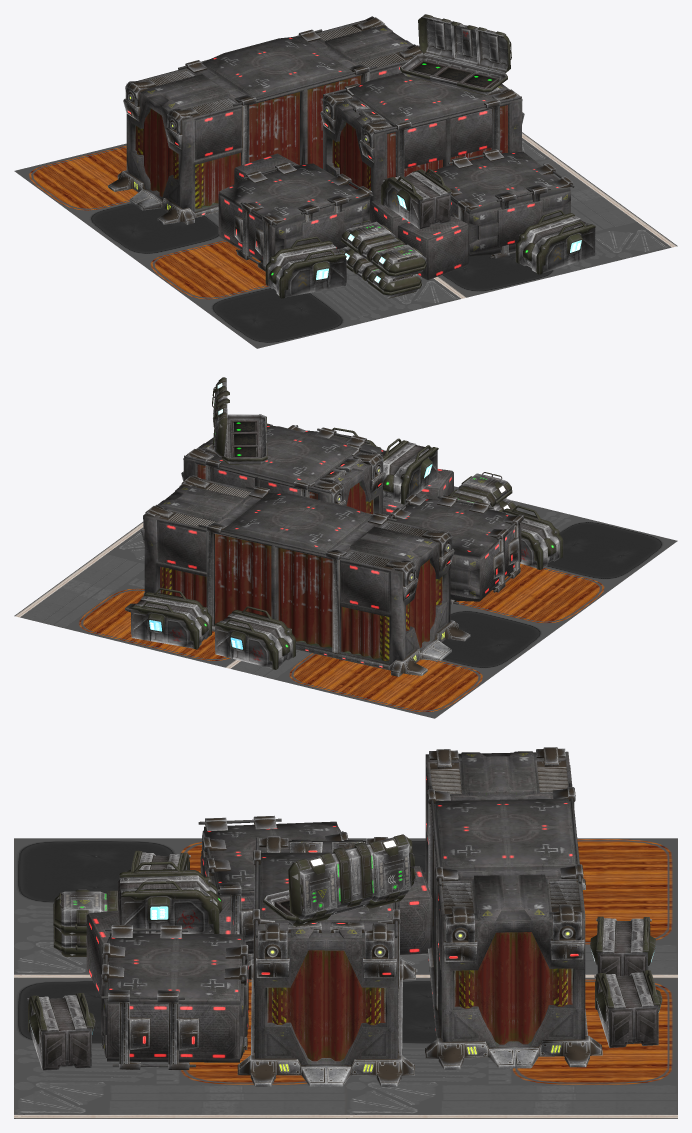
The picture shows the model from 3 angles, top to bottom: view 1: azimuth 30°, elevation 25°; view 2: azimuth 150°, elevation 25°; view 3: azimuth 270°, elevation 25°; orthographic projection. The views are drawn at different scales.
Visible parts, largest first — view 1: Plane, Cube.009, Cube.000, Cube.004, Cube.001, SciFi_Crate01_A.006, SciFi_Crate01_B.009, SciFi_Crate01_B.005, SciFi_Crate01_B.007, Cube.005, SciFi_Crate01_A.004, SciFi_Crate01_A (+3 smaller); view 2: Cube.009, Plane, Cube.000, Cube.004, SciFi_Crate01_B.001, SciFi_Crate01_B.003, SciFi_Crate01_B.007, SciFi_Crate01_A, SciFi_Crate01_B.009, SciFi_Crate01_A.004, SciFi_Crate01_A.006, Cube.001 (+1 smaller); view 3: Plane, Cube.009, Cube.000, Cube.001, SciFi_Crate01_A.006, Cube.004, SciFi_Crate01_B.007, SciFi_Crate01_B.005, SciFi_Crate01_B.001, SciFi_Crate01_B.003, Cube.002, SciFi_Crate01_A.004 (+4 smaller).
Boxes of the visible parts, x1,y1,x2,y2 form: Plane: (14, 132, 677, 348); Cube.009: (108, 16, 423, 224); Cube.000: (320, 73, 524, 222); Cube.004: (218, 162, 373, 271); Cube.001: (429, 149, 574, 258); SciFi_Crate01_A.006: (418, 14, 511, 73); SciFi_Crate01_B.009: (265, 236, 346, 298); SciFi_Crate01_B.005: (515, 210, 595, 274); SciFi_Crate01_B.007: (381, 169, 451, 229); Cube.005: (398, 216, 468, 280); SciFi_Crate01_A.004: (341, 220, 426, 279); SciFi_Crate01_A: (400, 53, 507, 95); Cube.009: (125, 475, 470, 676); Plane: (14, 486, 677, 718); Cube.000: (181, 423, 385, 514); Cube.004: (390, 494, 523, 604); SciFi_Crate01_B.001: (131, 588, 211, 649); SciFi_Crate01_B.003: (214, 606, 295, 669); SciFi_Crate01_B.007: (383, 438, 438, 504); SciFi_Crate01_A: (222, 414, 267, 464); SciFi_Crate01_B.009: (501, 505, 563, 569); SciFi_Crate01_A.004: (439, 472, 512, 508); SciFi_Crate01_A.006: (212, 377, 229, 456); Cube.001: (288, 425, 385, 455); Plane: (14, 838, 677, 1118); Cube.009: (424, 747, 602, 1069); Cube.000: (237, 836, 415, 1086); Cube.001: (101, 925, 248, 1070); SciFi_Crate01_A.006: (288, 834, 415, 920); Cube.004: (198, 815, 348, 961); SciFi_Crate01_B.007: (117, 861, 222, 933); SciFi_Crate01_B.005: (27, 993, 95, 1070); SciFi_Crate01_B.001: (594, 970, 662, 1047); SciFi_Crate01_B.003: (590, 916, 655, 976); Cube.002: (400, 866, 432, 954); SciFi_Crate01_A.004: (53, 889, 117, 935).
Size of the model in its own units: 5.22 by 1.85 by 5.22.
